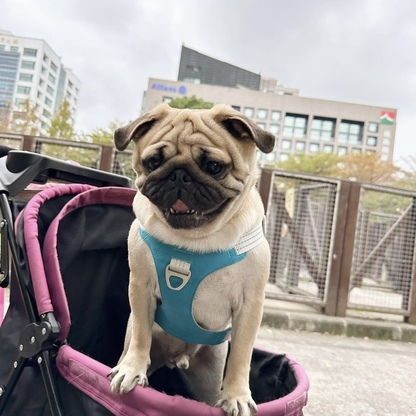Pug: (104, 97, 283, 416)
